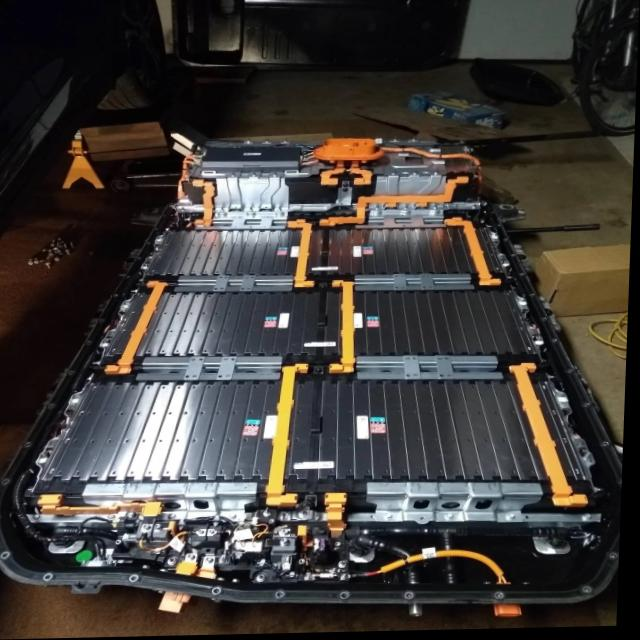Aluminum-frame: (371, 485, 545, 513), (87, 485, 261, 511), (140, 357, 284, 381), (360, 357, 504, 381), (176, 276, 295, 293), (358, 275, 477, 291), (358, 212, 446, 230), (197, 215, 287, 231), (223, 182, 284, 204), (378, 180, 446, 196)
Battery Module: (296, 386, 545, 475), (48, 384, 282, 477), (141, 295, 336, 353), (359, 293, 536, 354), (332, 230, 475, 274), (154, 232, 301, 274)
Bolt: (145, 523, 166, 532), (584, 515, 599, 525), (189, 552, 202, 562), (208, 556, 221, 565), (387, 513, 400, 522), (509, 513, 520, 523), (36, 512, 47, 522), (447, 514, 459, 523), (169, 513, 182, 521), (284, 539, 295, 548), (283, 529, 296, 536), (231, 514, 242, 522), (109, 514, 121, 520)
Bus-bar: (516, 366, 589, 508), (322, 179, 471, 227), (108, 282, 169, 374), (271, 366, 310, 506), (449, 220, 502, 288), (334, 282, 356, 374), (290, 222, 317, 289), (195, 180, 215, 225), (330, 495, 350, 539), (323, 162, 346, 186), (352, 162, 374, 186)
Nut: (223, 553, 232, 565), (302, 511, 314, 520), (171, 557, 182, 566), (600, 486, 609, 497), (265, 509, 276, 517), (277, 207, 285, 213), (250, 207, 257, 213), (219, 207, 227, 212)
Screw: (260, 573, 273, 584), (342, 184, 351, 194), (342, 561, 353, 569), (302, 558, 311, 566), (116, 539, 127, 545), (344, 574, 353, 581), (338, 543, 347, 550), (310, 574, 317, 583)
